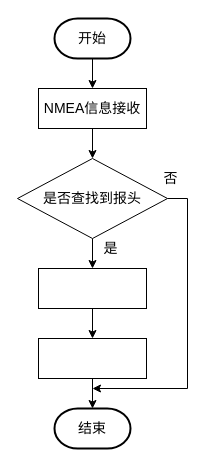
This 213x466 diagram has some shape labels left out. The shapes that lost their labels are listed below. From the top down, each one's centre as x and y in pixels, then its label:
At point 92,288: "信息提取".
At point 92,358: "信息保存".
